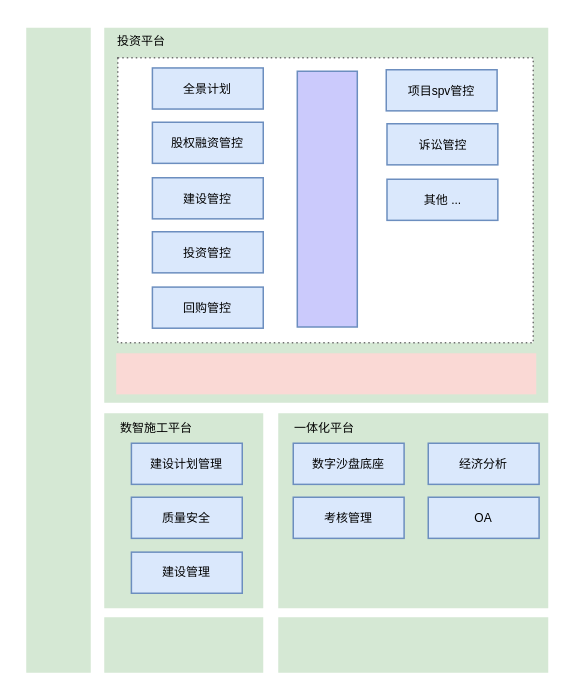
Some shapes in this 573 by 698 pixel diagram are drawn without their labels. Here are the shapes that lost their labels. From the top down, the centre of each, then its label:
the point at 326,198: 投 资 模 型
the point at 58,349: 统 一 门 户
the point at 326,373: API 统一网关
the point at 183,644: 诉讼合规系统
the point at 413,644: 报账系统
